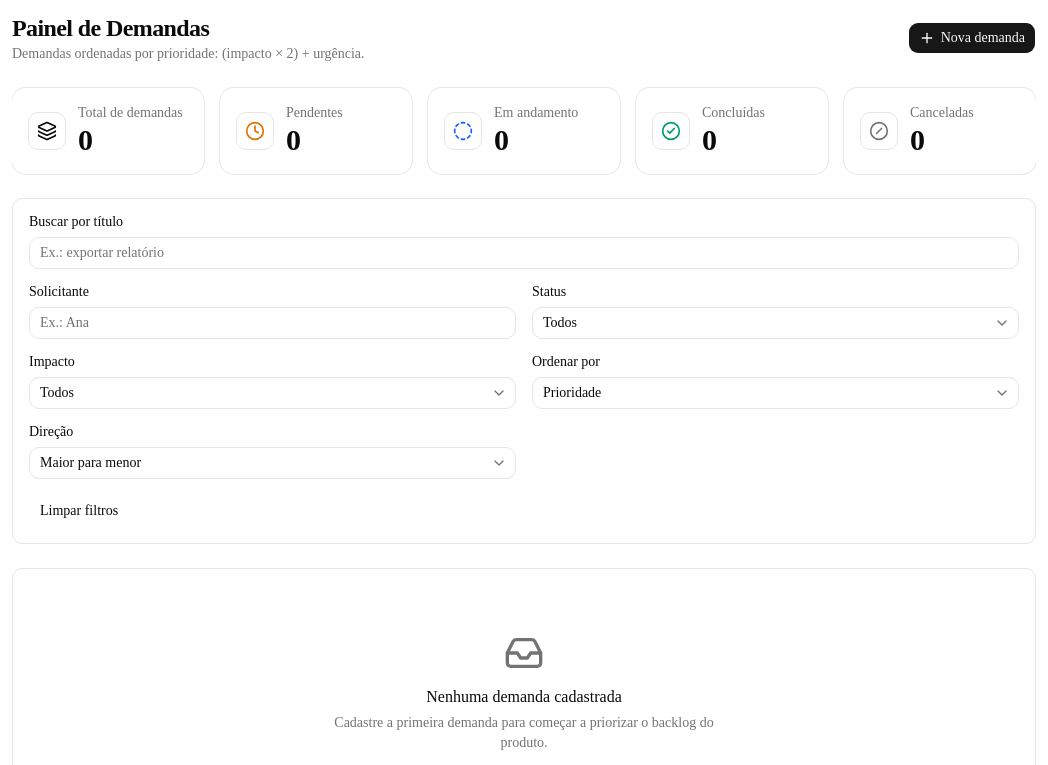
Test: DemandsPanel › diferencia lista vazia por filtro de lista sem nenhum cadastro
The width and height of the screenshot is (1048, 765).
Expected: the text "Nenhuma demanda cadastrada" is shown, [426, 688, 622, 704]
In the field labelled "Buscar por título": (524, 252) [29, 236, 1019, 268], type "inexistente"
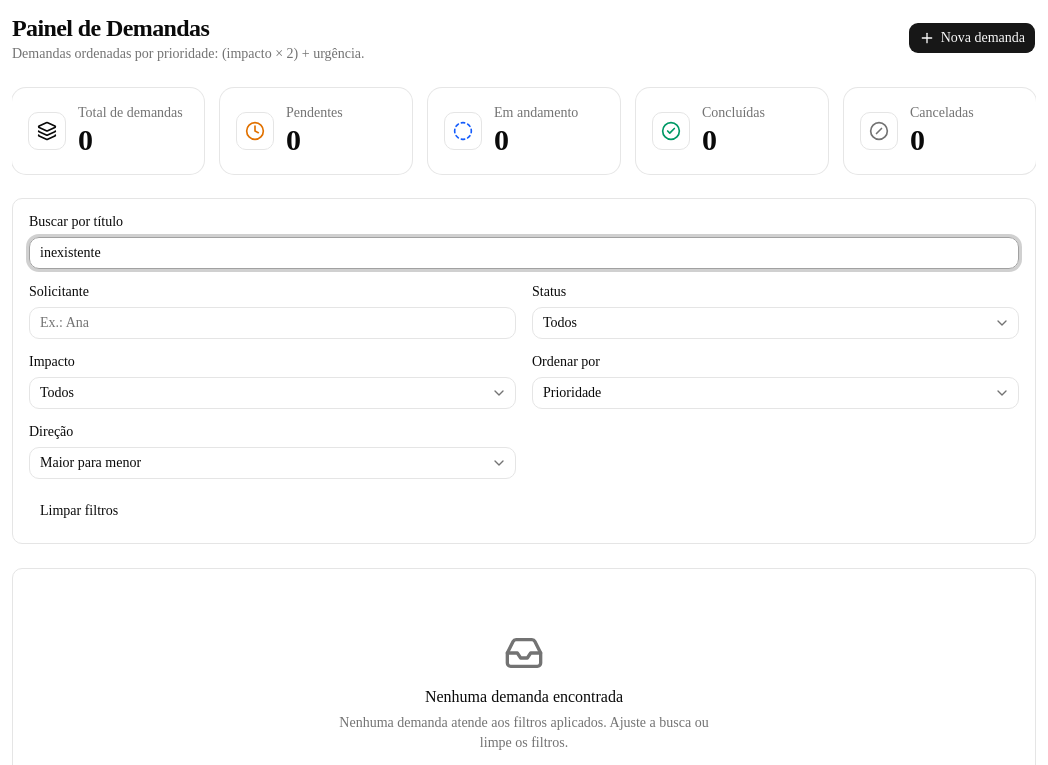
Expected: the text "Nenhuma demanda encontrada" is shown, [425, 688, 623, 704]
